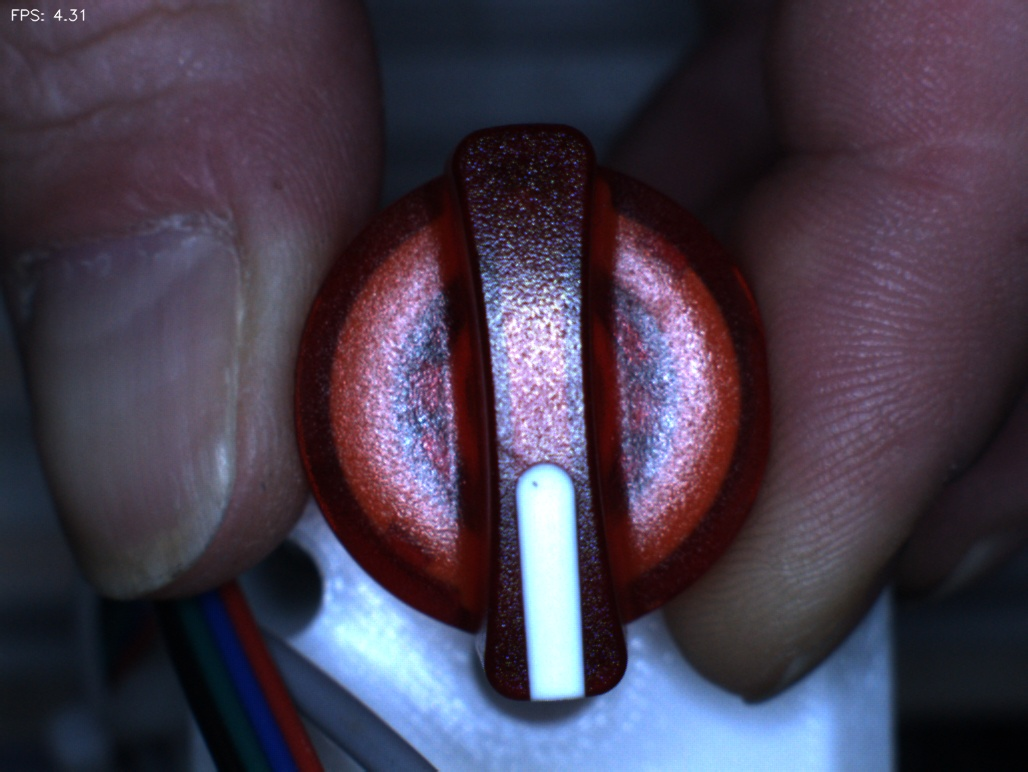PointNoir: (492, 452, 566, 509)
